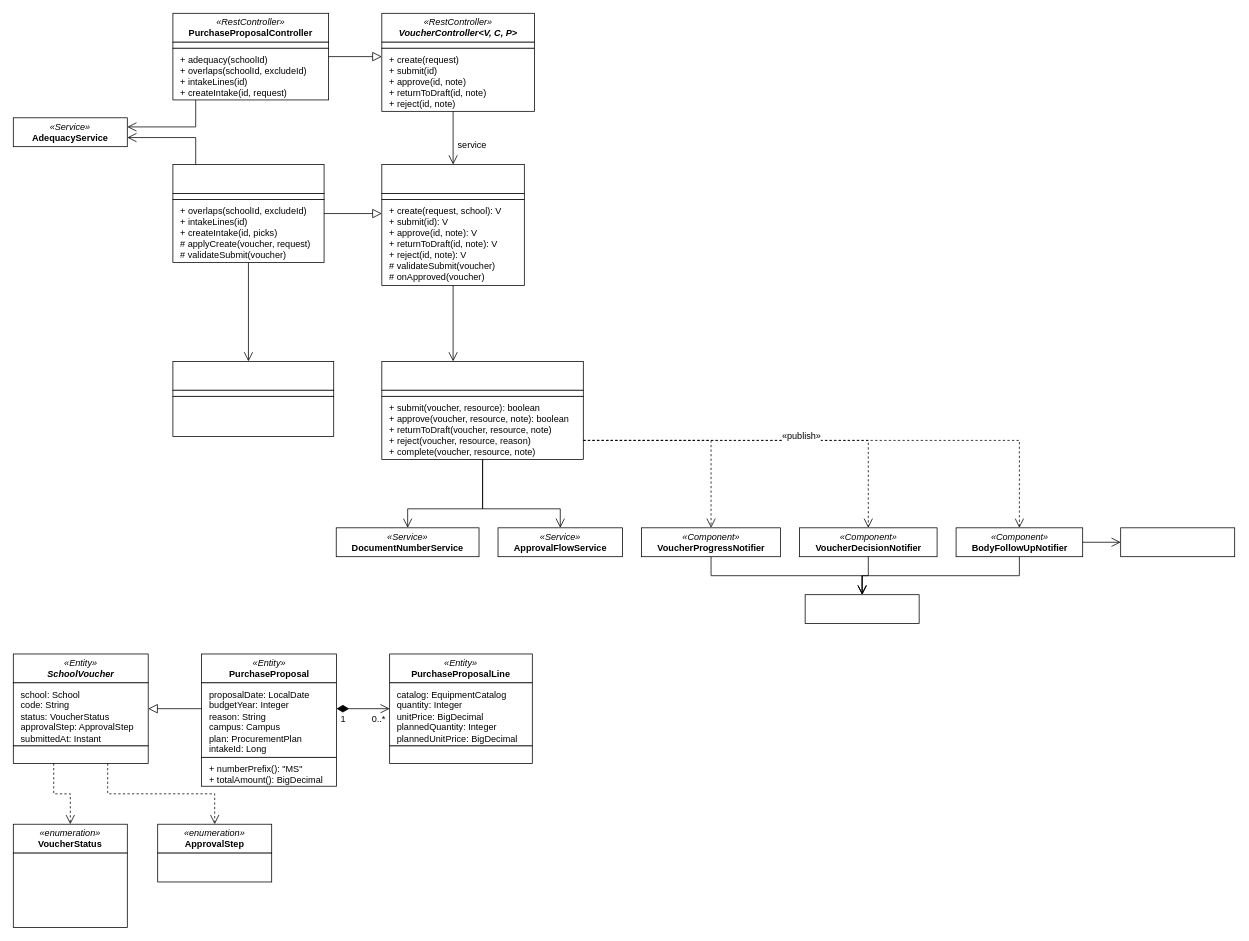
Some shapes in this 1249 by 941 pixel diagram are drawn without their labels. Each missing label, with the centre of its shape:
"+ effectiveQuantity(): int" belongs at pixel 460 754.
"+ findOne(spec) + findAll(spec) + persist(proposal)" belongs at pixel 253 416.
"+ numberPrefix(): String" belongs at pixel 80 754.
"DRAFT PENDING APPROVED COMPLETED REJECTED CANCELLED" belongs at pixel 70 890.
"SCHOOL MANAGING_BODY" belongs at pixel 214 867.
"«Component» BodyRecipients" belongs at pixel 1177 542.
"«Component» VoucherWorkflow" belongs at pixel 482 375.
"«interface» PurchaseProposalRepository" belongs at pixel 253 375.
"«Service» NotificationService" belongs at pixel 861 609.
"«Service» PurchaseProposalService" belongs at pixel 248 178.
"«Service» VoucherService<V, C, P>" belongs at pixel 452 178.
